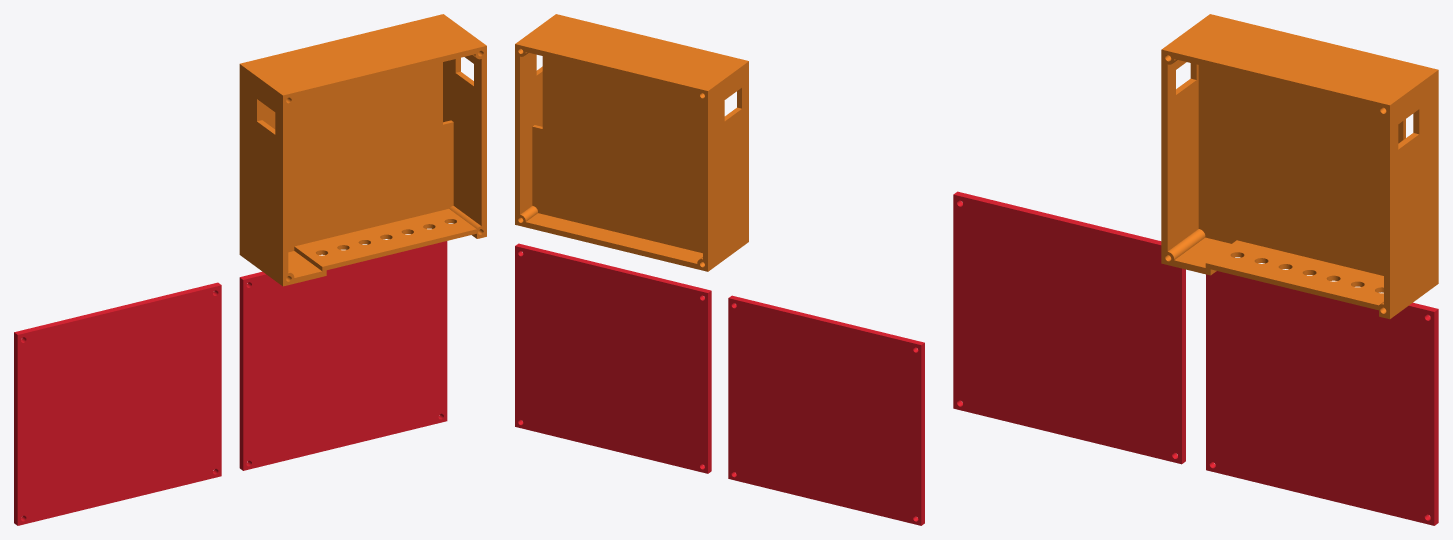
File: tinker.obj
The picture shows the model from 3 angles, left to right: view 1: azimuth 30°, elevation 25°; view 2: azimuth 150°, elevation 25°; view 3: azimuth 330°, elevation 25°; orthographic projection. The views are drawn at different scales.
Parts seen in each view (by area): view 1: obj_1, obj_2, obj_0; view 2: obj_1, obj_0, obj_2; view 3: obj_1, obj_2, obj_0.
Boxes of the visible parts, <box> form: obj_1: <box>239,14,486,286</box>; obj_2: <box>14,282,221,525</box>; obj_0: <box>239,241,447,470</box>; obj_1: <box>515,14,748,271</box>; obj_0: <box>515,243,711,473</box>; obj_2: <box>728,295,924,525</box>; obj_1: <box>1161,14,1438,319</box>; obj_2: <box>953,191,1185,464</box>; obj_0: <box>1206,271,1438,525</box>.
Bounding box in the file's own units: 200 × 180 × 35.
